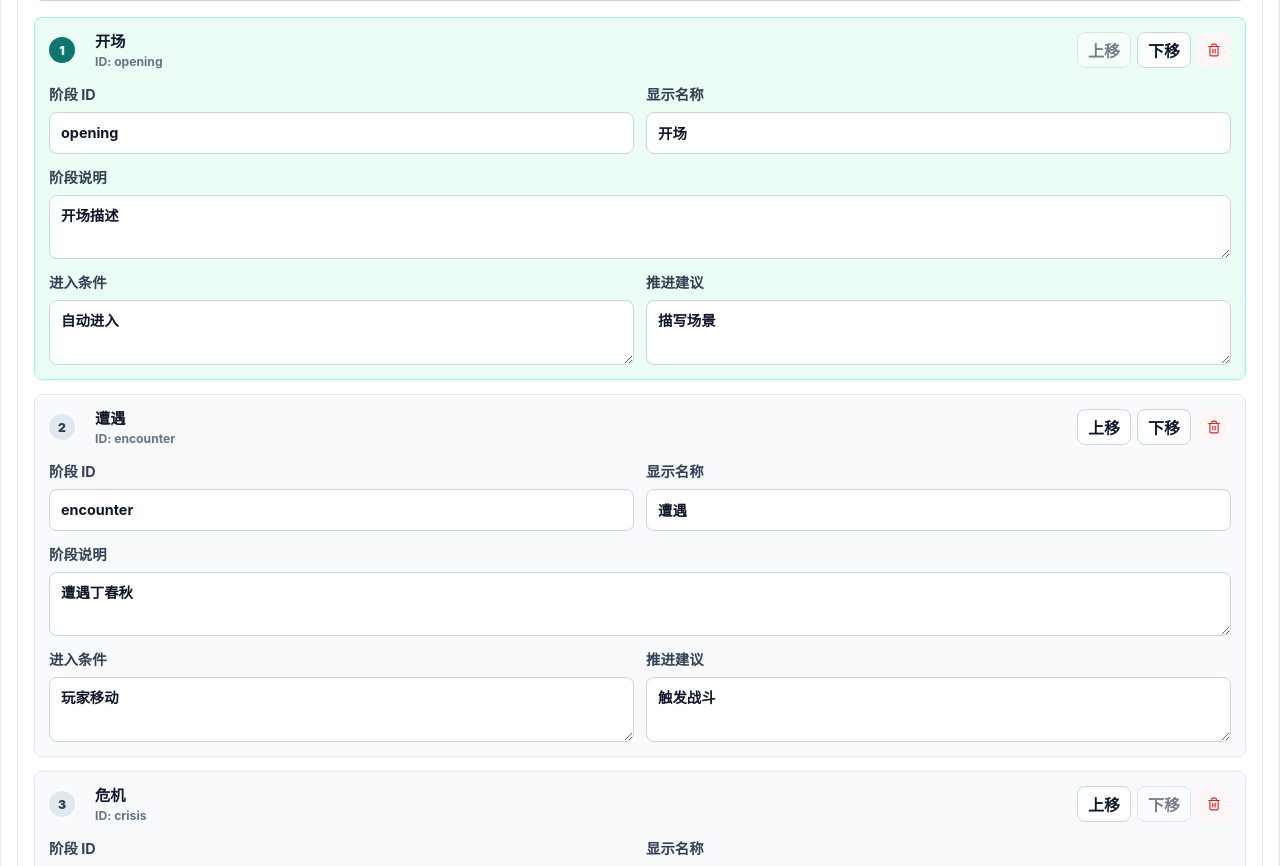
Test: StorySettingPanel › moves a stage up
This screenshot has width=1280, height=866.
(page scrolled)
Note: Click "上移" on the second stage (index 1)
Click the button "上移" in the row of "encounter" at (1104, 427), box [1077,409,1131,445]
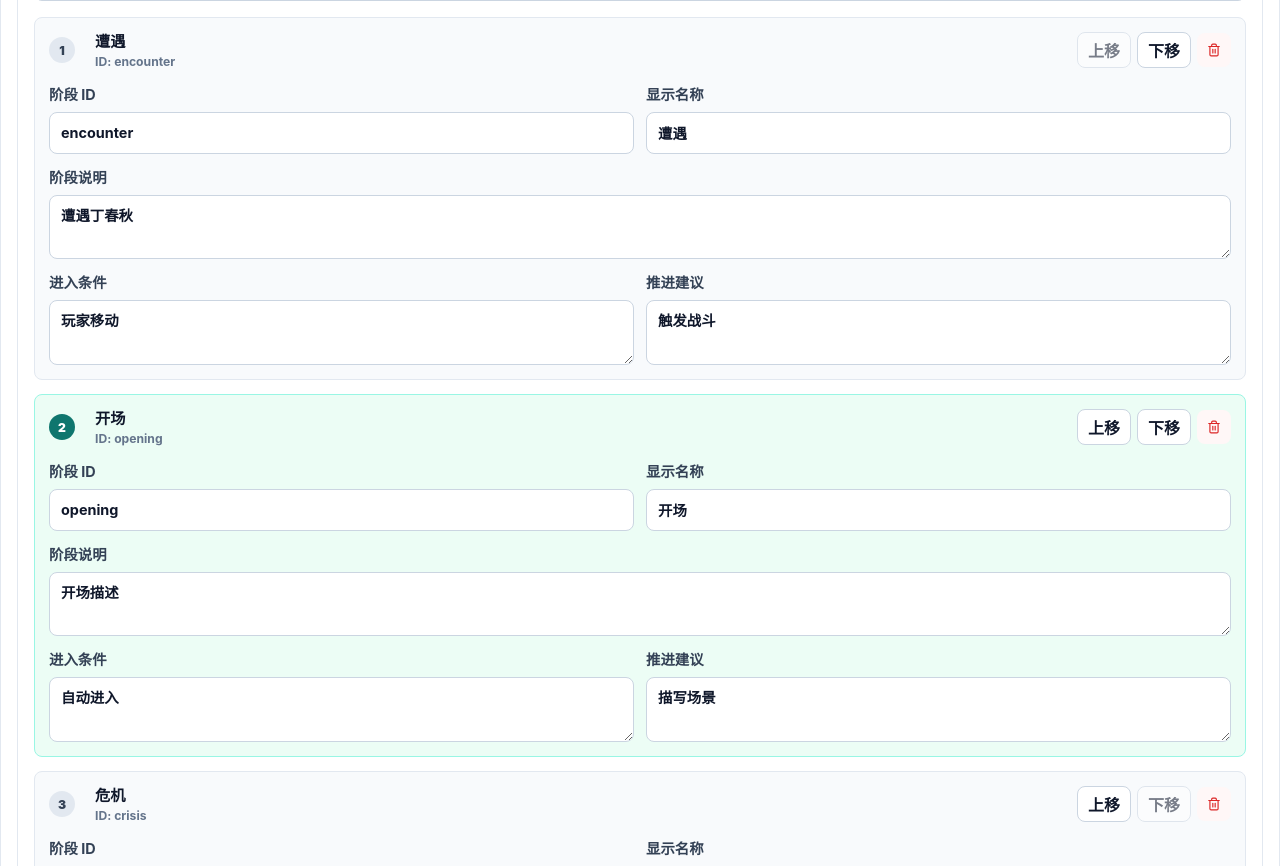
Expected: the text with class "stage-flow-index" reads "1", [59,42,65,58]
Expected: the text "开场" is shown, [95,409,125,428]
Expected: the text "遭遇" is shown, [95,32,125,50]
